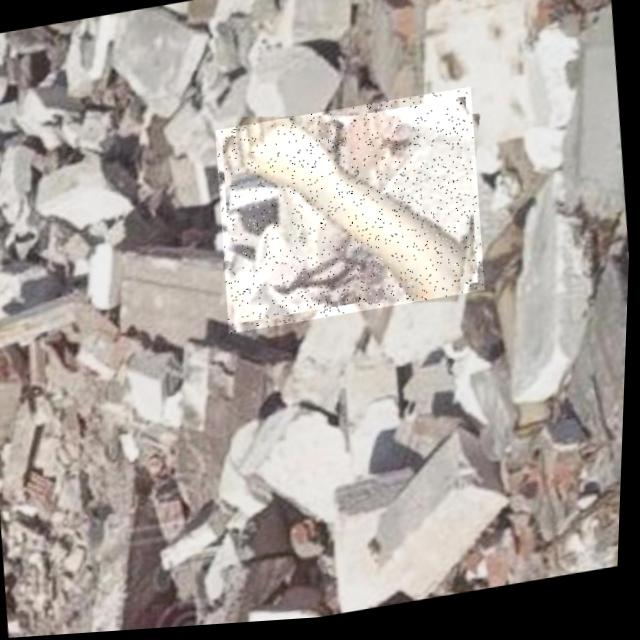Person in Rubble: (210, 91, 493, 337)
